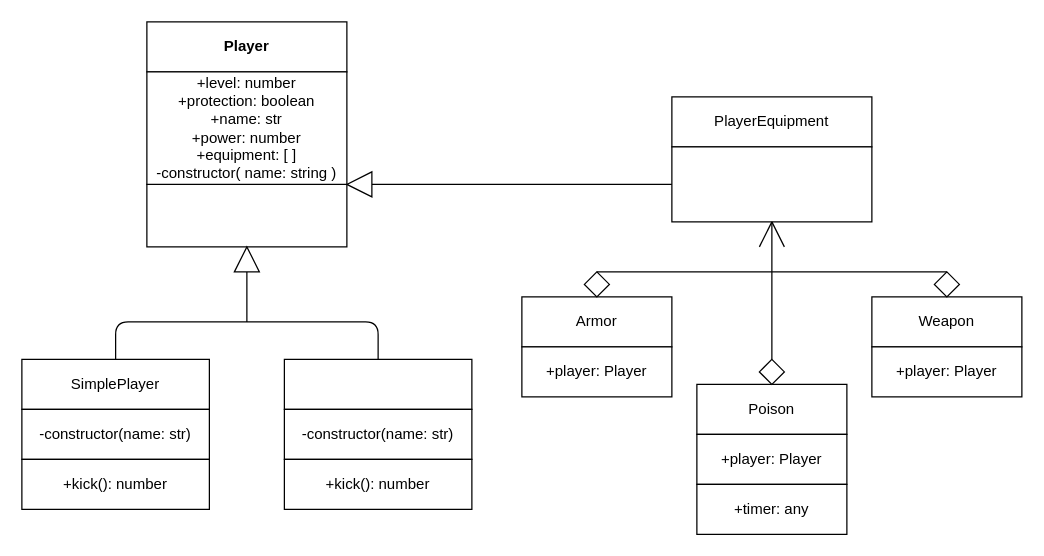
This 1044x556 diagram has some shape labels left out. Each missing label, with the box of its shape:
+getInfo(): string +protect(): boolean: (146, 183, 347, 247)
decoratedPlayer: Player -constructor( player: Plaer ): (671, 146, 872, 222)
MiddlePlayer: (283, 358, 472, 409)
